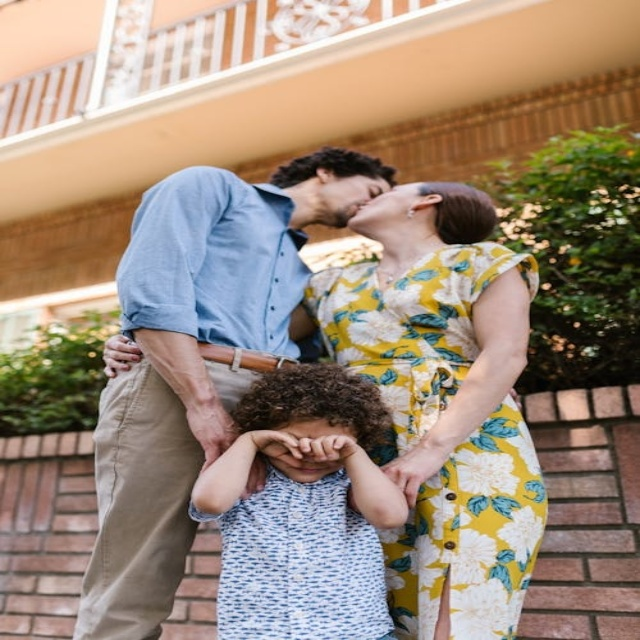Sin_gafas: (353, 170, 388, 200)
Sin_guantes: (370, 437, 456, 507), (172, 398, 248, 474), (267, 434, 352, 463)
Sin_mascara: (314, 196, 365, 220), (353, 199, 399, 219)
